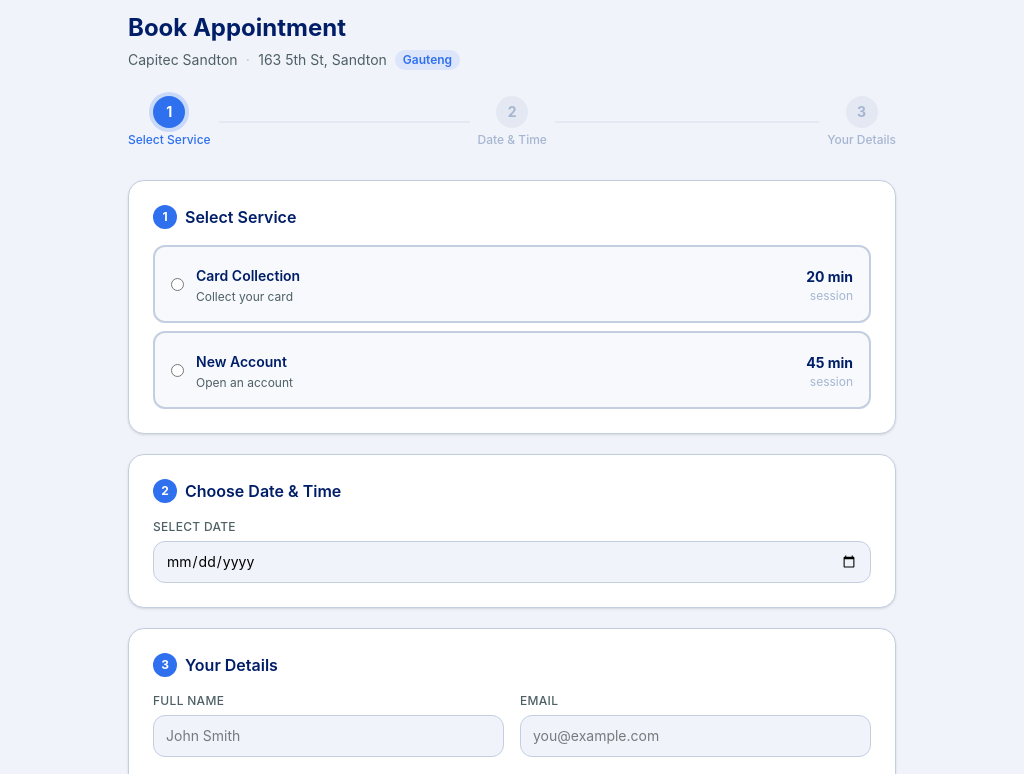
Test: BookingPage › shows required documents when service selected
Click the text "Card Collection" at (248, 276), box [196,267,300,284]
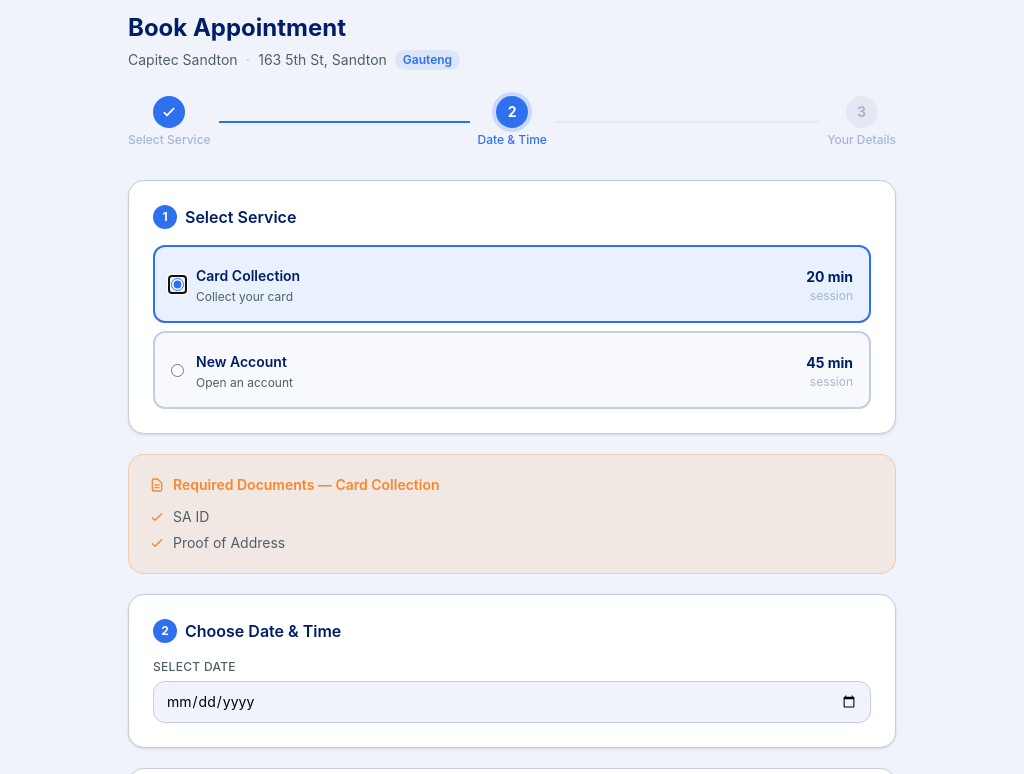
Check: the heading "Required Documents — Card Collection" is shown, box [149,476,440,493]
Check: the list item "SA ID" is shown, box [149,508,210,525]
Check: the list item "Proof of Address" is shown, box [149,534,285,551]
